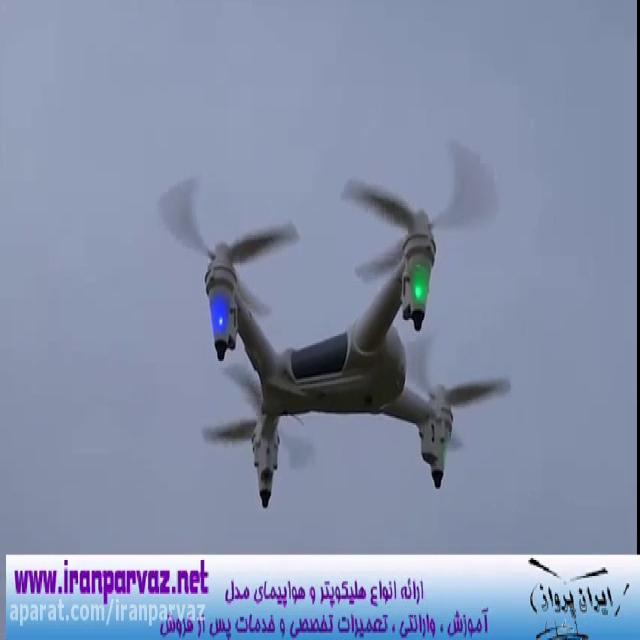drone: (152, 130, 514, 517)
